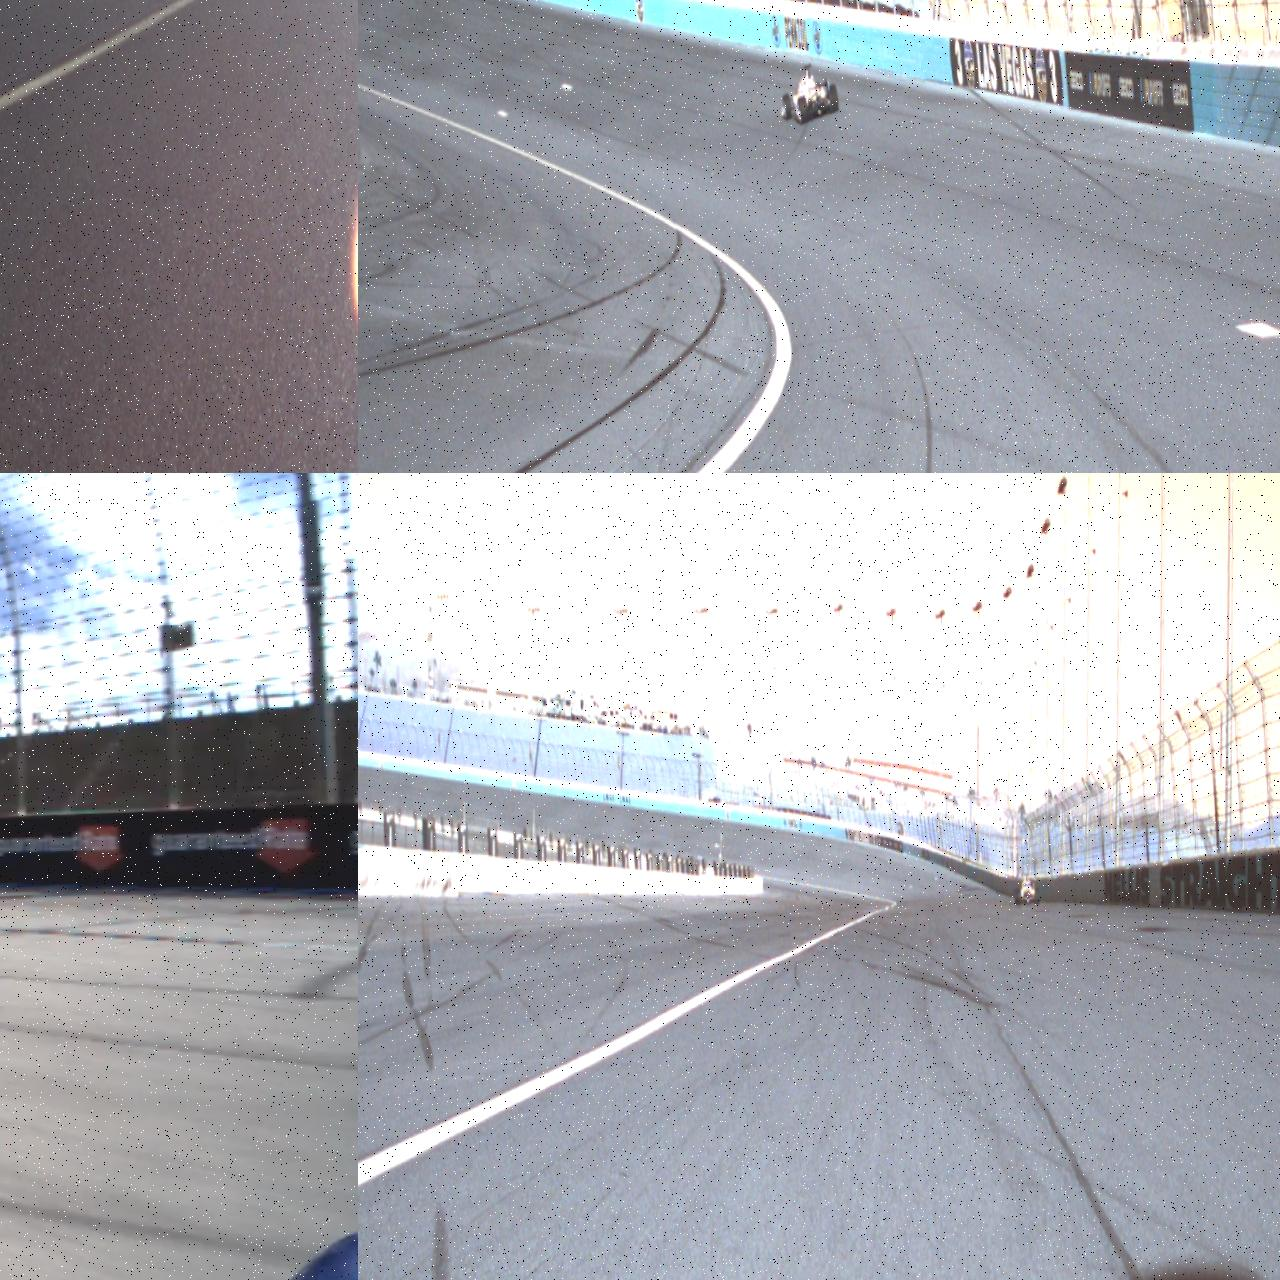AV: (778, 62, 838, 124), (1014, 873, 1040, 905)
Wheel: (828, 83, 839, 113), (797, 95, 806, 124), (782, 93, 791, 120), (1014, 888, 1020, 905), (1035, 890, 1040, 904)
